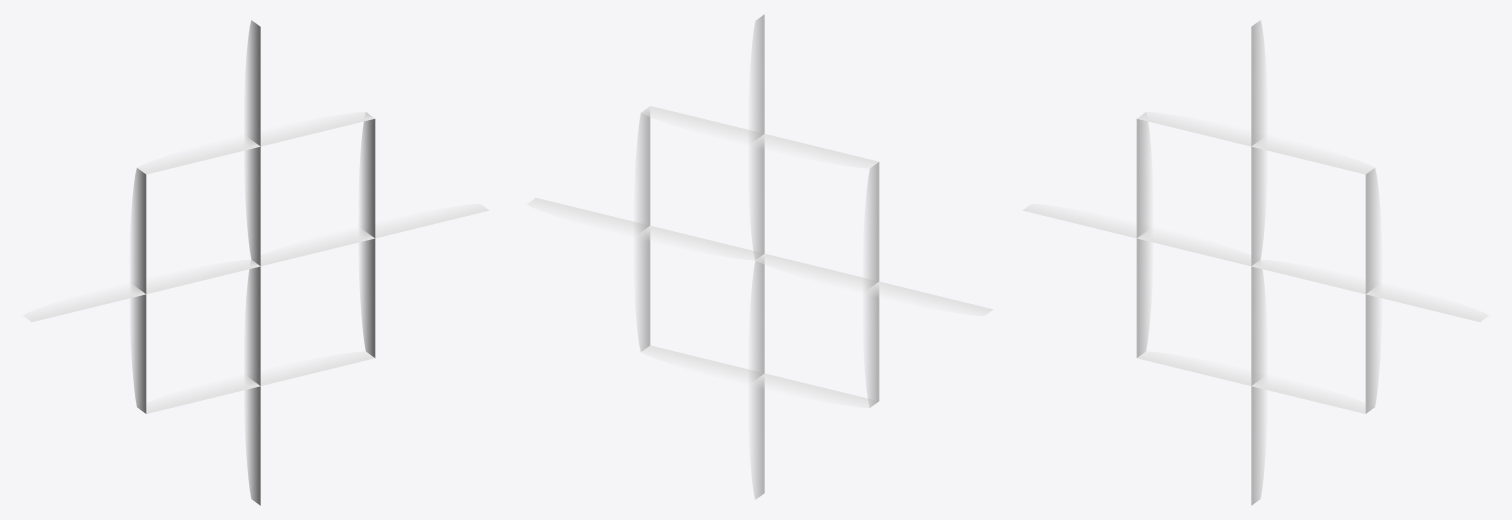
File: bullet-trail.glb
3 views of the same model, side by side, from view 1: azimuth 30°, elevation 25°; view 2: azimuth 150°, elevation 25°; view 3: azimuth 330°, elevation 25° (orthographic).
Parts seen in each view (by area): view 1: Plane; view 2: Plane; view 3: Plane.
Boxes of the visible parts, bbox=[...] form: Plane: bbox=[23, 20, 489, 505]; Plane: bbox=[527, 14, 993, 499]; Plane: bbox=[1022, 20, 1488, 505].
Size of the model in its own units: 15 by 15 by 1.
Materials: 1 (1 with a texture image).
